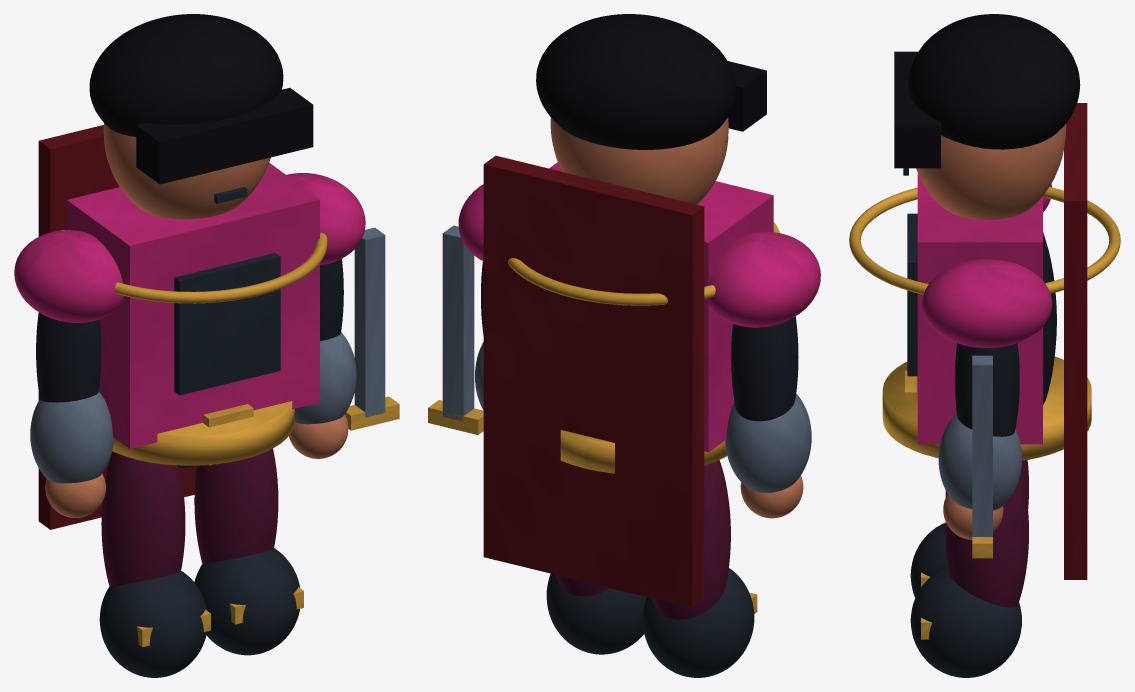
Rendered from Specialization.glb.
The picture shows the model from 3 angles, left to right: view 1: azimuth 30°, elevation 25°; view 2: azimuth 150°, elevation 25°; view 3: azimuth 270°, elevation 25°; orthographic projection. The views are drawn at different scales.
Visible parts, largest first — view 1: ChestPlate, Hair, ChestInset, HairFringe, Leg, Boot, Boot.001, Leg.001, Shoulder, Cape, Head, Gauntlet (+11 smaller); view 2: Cape, Hair, Shoulder, Head, ChestPlate, Boot, Arm, Dagger, Gauntlet, Boot.001, Leg, ShoulderCrest (+6 smaller); view 3: Hair, ChestPlate, Cape, Shoulder.001, Head, Boot.001, Leg.001, WaistGuard, Gauntlet.001, Arm.001, Dagger, HairFringe (+6 smaller).
Part boxes in pixels (<box>): ChestPlate: <box>67,163,319,448</box>; Hair: <box>89,14,283,136</box>; ChestInset: <box>174,253,280,395</box>; HairFringe: <box>136,88,313,184</box>; Leg: <box>101,451,185,586</box>; Boot: <box>99,571,206,677</box>; Boot.001: <box>194,548,299,655</box>; Leg.001: <box>194,448,278,563</box>; Shoulder: <box>14,230,123,322</box>; Cape: <box>38,125,196,529</box>; Head: <box>103,123,270,219</box>; Gauntlet: <box>30,391,113,483</box>; Cape: <box>483,155,704,607</box>; Hair: <box>536,14,735,149</box>; Shoulder: <box>706,231,820,327</box>; Head: <box>550,117,728,204</box>; ChestPlate: <box>549,162,773,452</box>; Boot: <box>642,568,754,677</box>; Arm: <box>731,316,798,421</box>; Dagger: <box>442,225,474,421</box>; Gauntlet: <box>725,394,811,492</box>; Boot.001: <box>546,573,646,654</box>; Leg: <box>652,460,730,619</box>; ShoulderCrest: <box>508,222,779,305</box>; Hair: <box>908,14,1080,149</box>; ChestPlate: <box>917,173,1042,444</box>; Cape: <box>1064,103,1087,579</box>; Shoulder.001: <box>922,259,1052,347</box>; Head: <box>916,124,1066,219</box>; Boot.001: <box>910,567,1021,677</box>; Leg.001: <box>945,471,1028,607</box>; WaistGuard: <box>882,356,1091,460</box>; Gauntlet.001: <box>938,413,1021,510</box>; Arm.001: <box>954,343,1019,436</box>; Dagger: <box>972,355,992,536</box>; HairFringe: <box>894,51,940,168</box>.
Bounding box in the file's own units: 1.82 × 2.96 × 1.17.
Materials: 11 (9 with a texture image).
